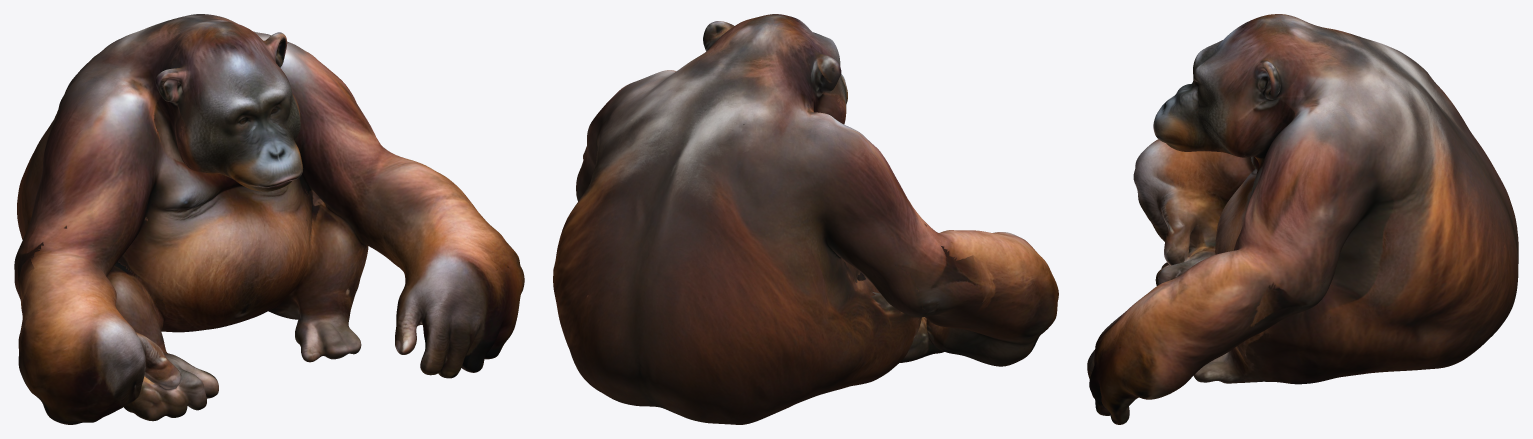
The model's file is orangutan.glb.
3 views of the same model, side by side, from view 1: azimuth 30°, elevation 25°; view 2: azimuth 150°, elevation 25°; view 3: azimuth 270°, elevation 25° (orthographic). The views are drawn at different scales.
Bounding box in the file's own units: 2 × 1.31 × 1.62.
Materials: 1 (1 with a texture image).
